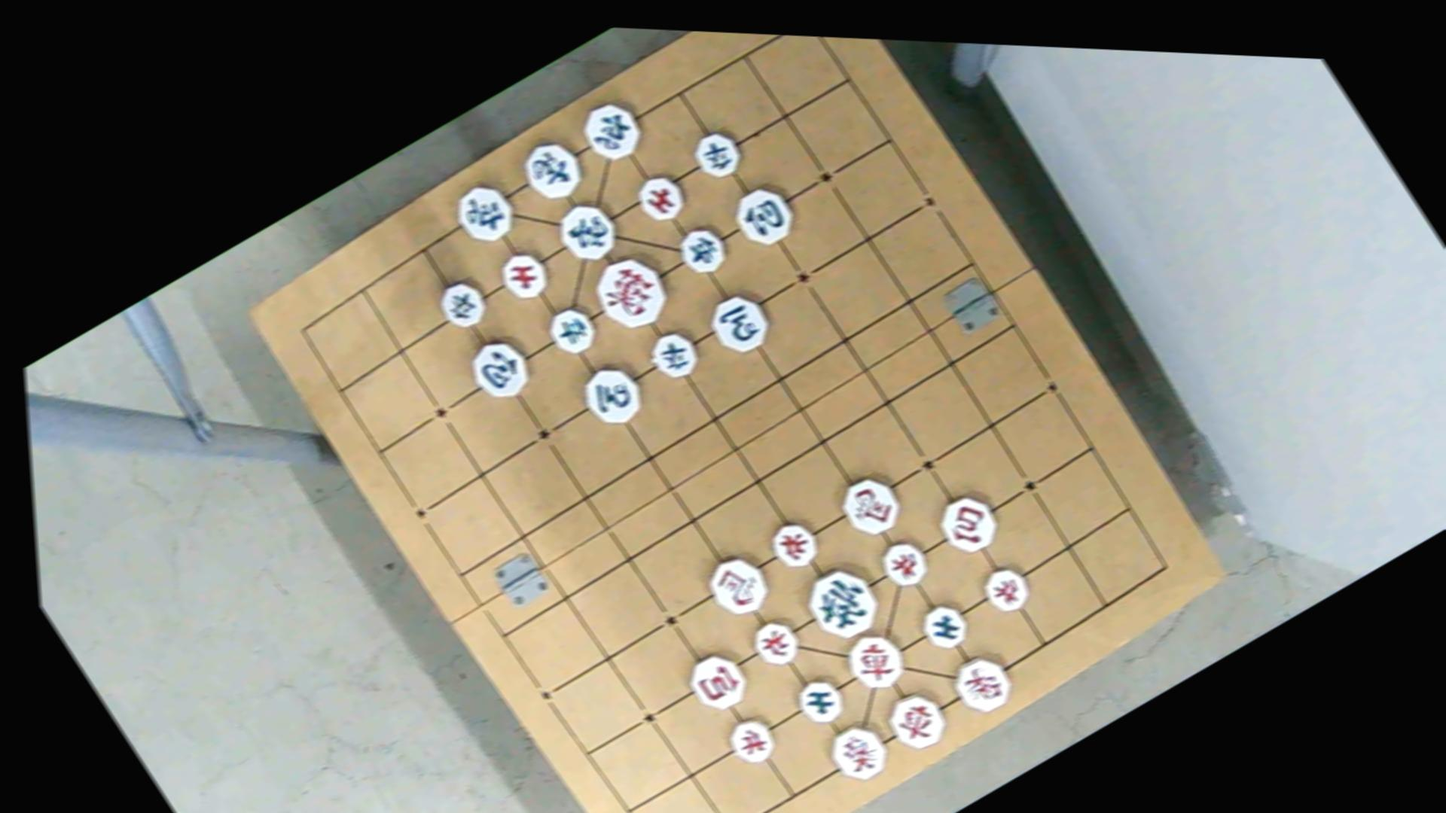cha_green: (566, 89, 651, 172), (444, 175, 523, 250)
cha_red: (876, 683, 956, 757), (837, 623, 916, 696)
jol_green: (642, 323, 708, 385), (542, 297, 606, 358), (670, 218, 734, 279), (432, 275, 496, 335), (684, 123, 749, 182)
jol_red: (759, 511, 829, 577), (714, 708, 784, 772), (871, 531, 941, 595), (973, 556, 1039, 619), (743, 608, 808, 671)
ma_green: (700, 286, 780, 363), (575, 358, 654, 433)
ma_red: (697, 547, 776, 623), (832, 469, 909, 541)
po_green: (460, 329, 541, 405), (724, 178, 804, 251)
po_red: (680, 641, 758, 714), (929, 486, 1006, 556)
sa_green: (789, 671, 852, 729), (914, 595, 975, 653)
sa_red: (493, 245, 557, 305), (627, 168, 692, 227)
sang_green: (548, 195, 627, 270), (514, 130, 593, 204)
sang_red: (820, 714, 898, 787), (942, 647, 1020, 719)
wang_green: (795, 558, 889, 648)
wang_red: (581, 244, 680, 337)
